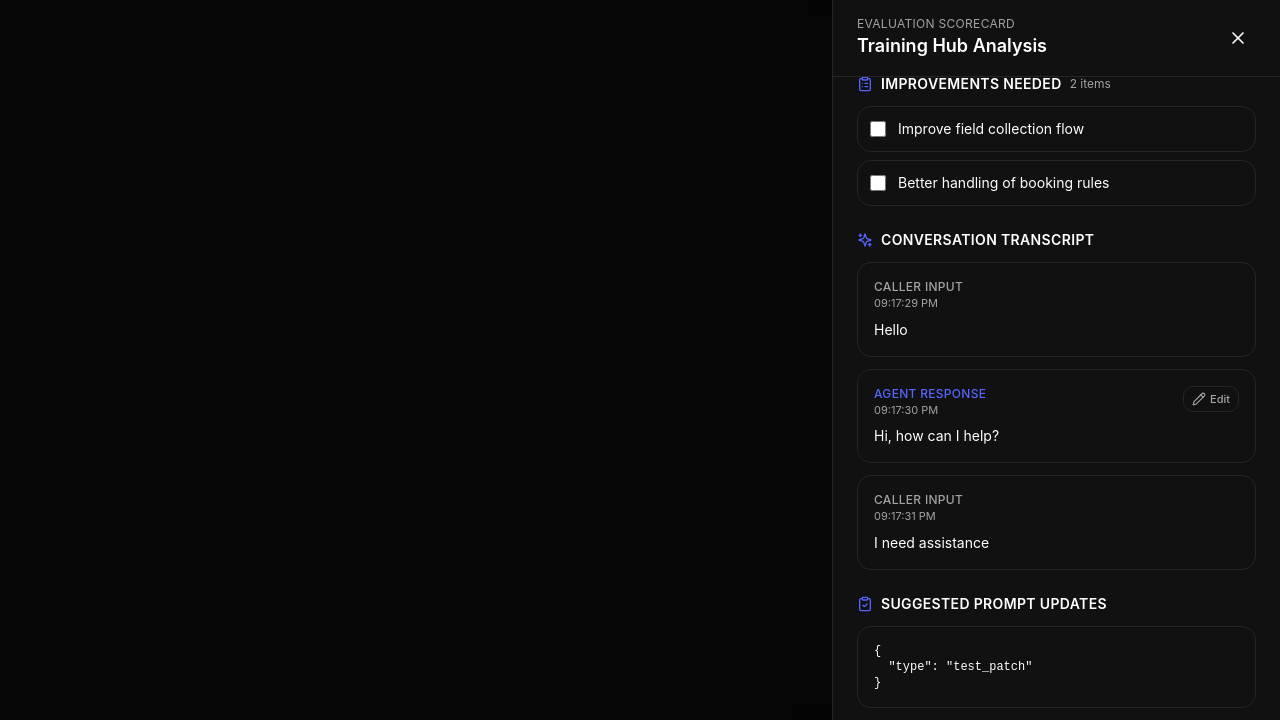
Test: EvaluationScorecard › Form Validation › should show error if corrected response is unchanged
The width and height of the screenshot is (1280, 720).
(page scrolled)
Click the button "Edit".
click(1211, 399)  # box [1183,386,1239,412]
(page scrolled)
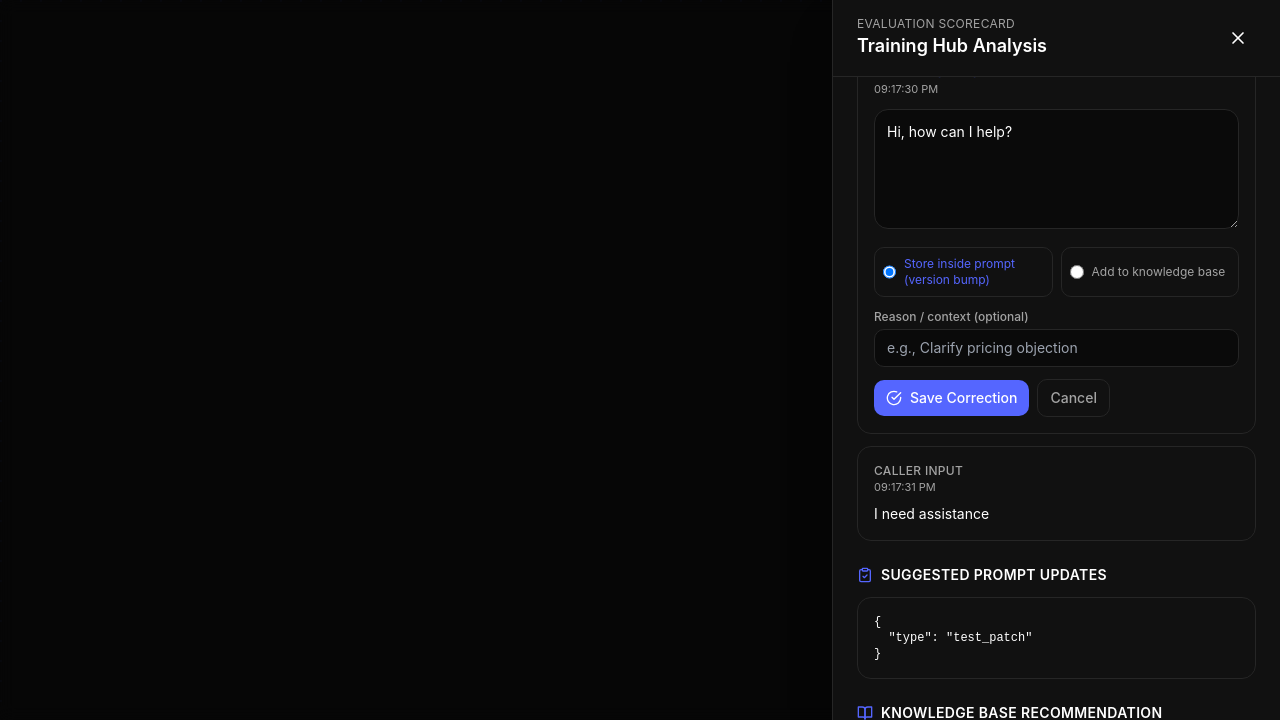
Click the button "Save Correction".
click(952, 398)  # box [874,380,1030,416]
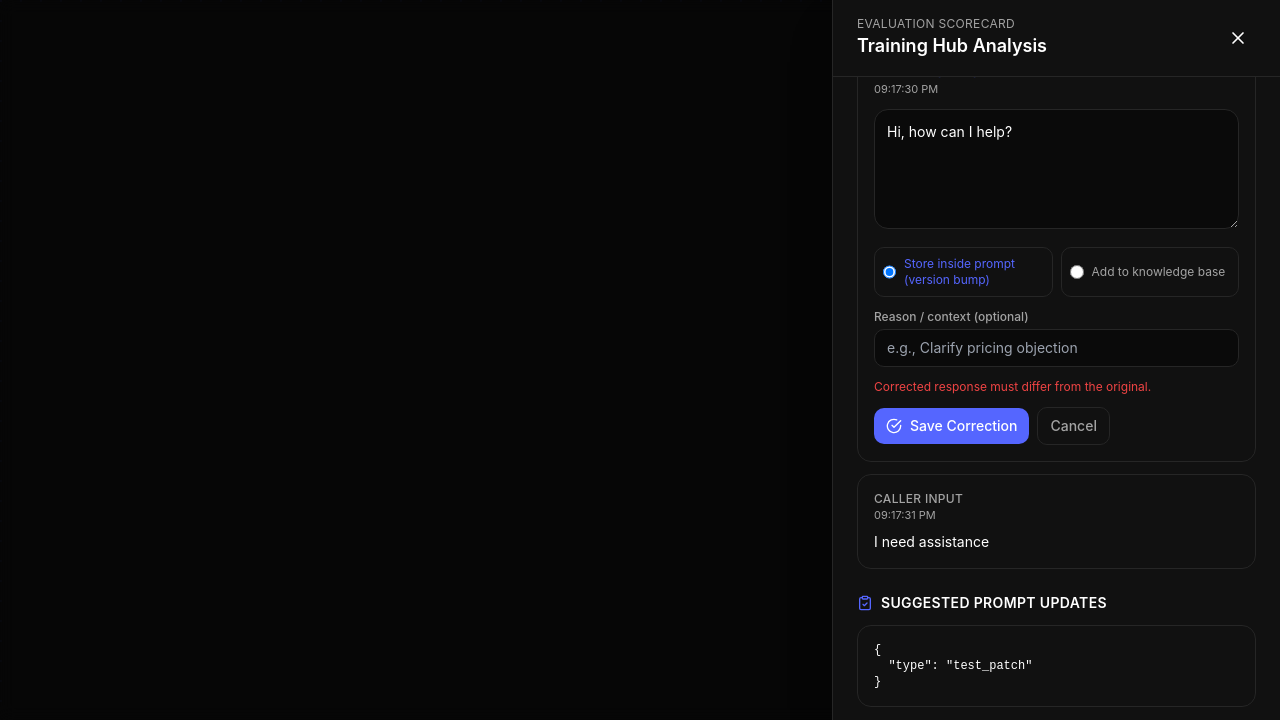
Check: the text "Corrected response must differ from the original." is shown, box [874,379,1151,394]
